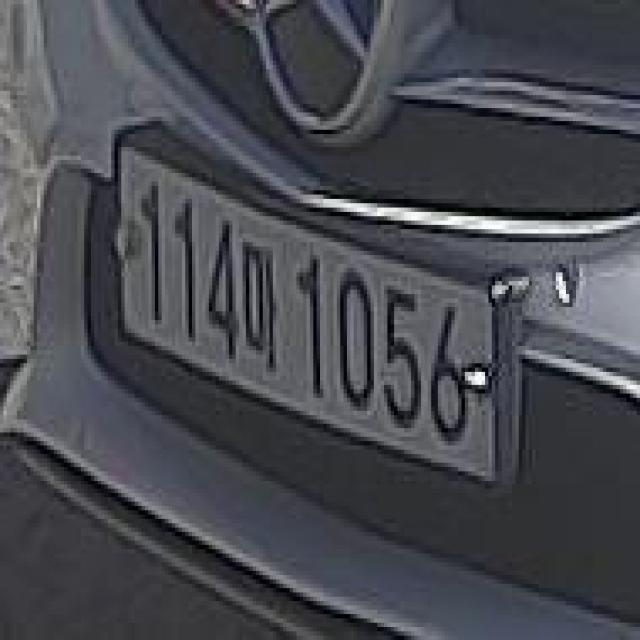illegal_plate: (110, 149, 510, 497)
